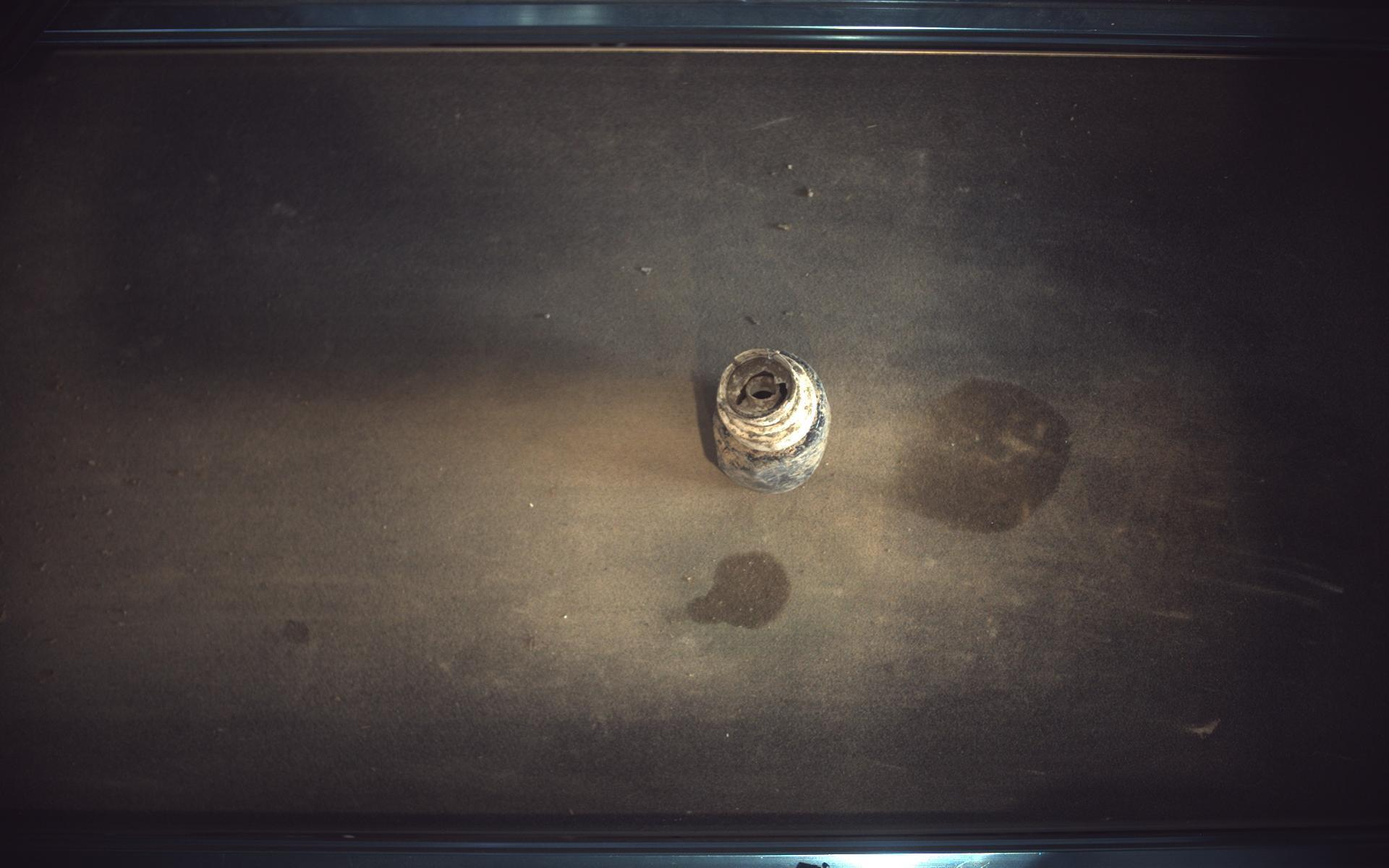general_w: (714, 349, 831, 493)
